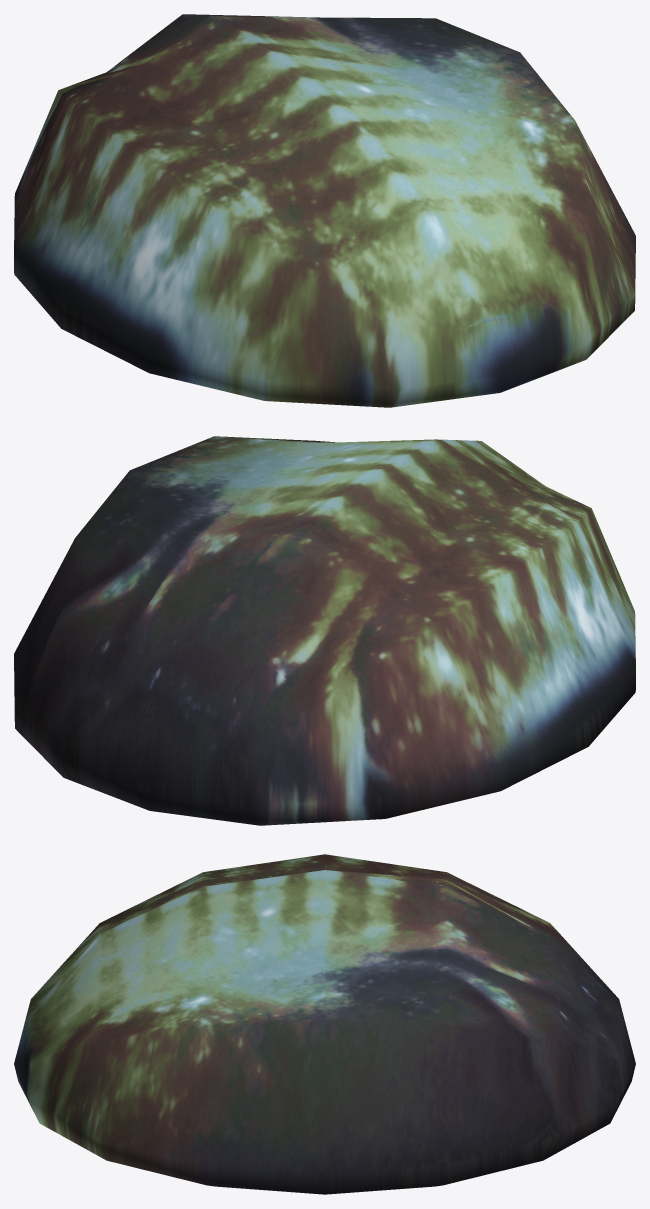
The model's file is kamakiri.fbx.
3 views of the same model, one above another, from view 1: azimuth 30°, elevation 25°; view 2: azimuth 150°, elevation 25°; view 3: azimuth 270°, elevation 25° (orthographic). The views are drawn at different scales.
Parts seen in each view (by area): view 1: 球; view 2: 球; view 3: 球.
Boxes of the visible parts, x1,y1,x2,y2 form: 球: (14, 14, 635, 407); 球: (14, 436, 635, 825); 球: (14, 854, 635, 1194).
Size of the model in its own units: 0.4404 by 0.5142 by 0.1817.
